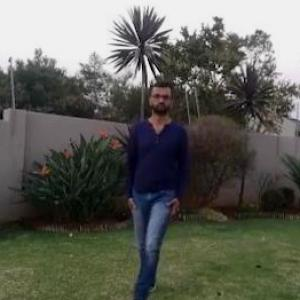follow: (123, 84, 182, 285)
